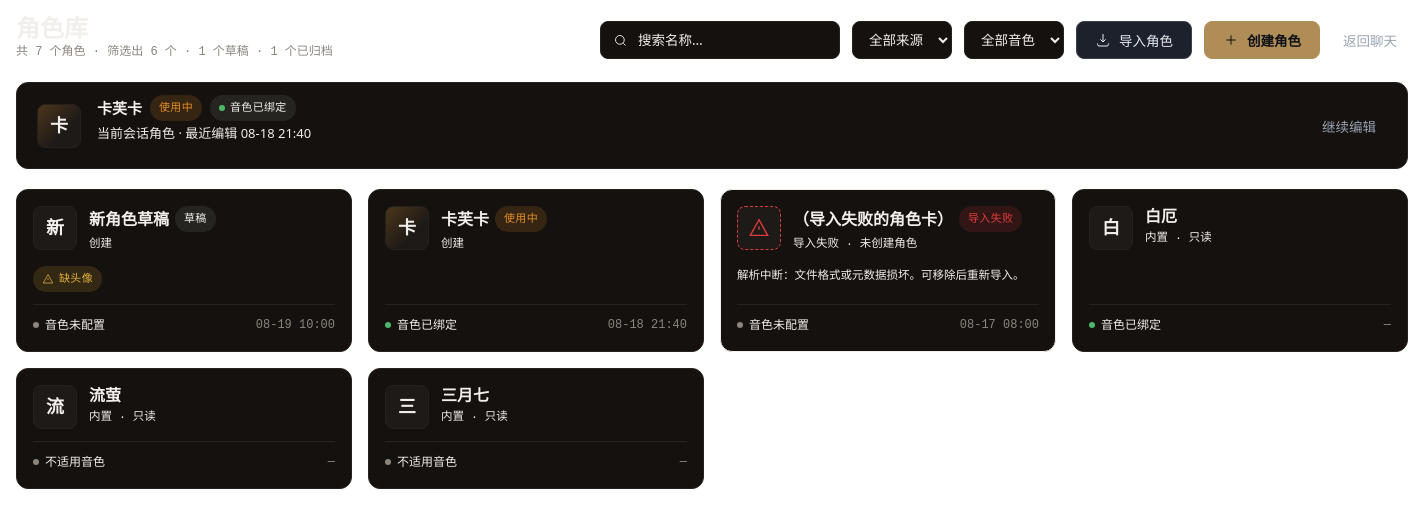
Test: CharacterLibraryPage › 筛选 › 按来源筛选「imported」只显示符合条件的卡
Select "导入" in the dropdown named "按来源筛选" at (902, 40), box [852,21,952,59]
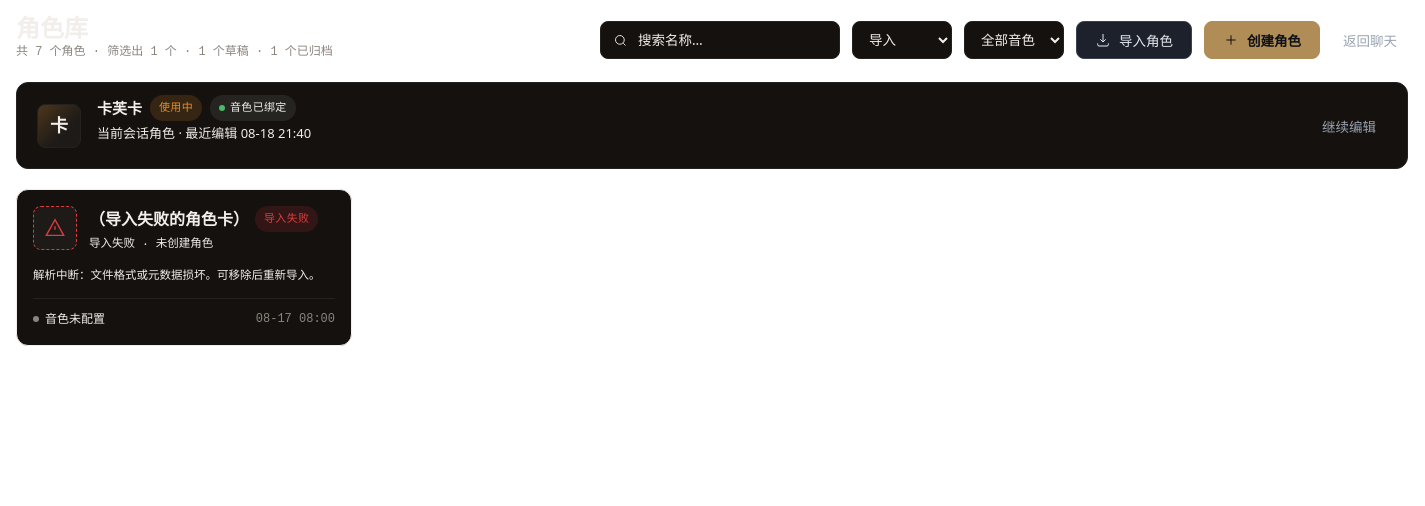
Expected: the element with test id "char-card-card-invalid-003" is shown, [16,189,352,346]
Now the element with test id "char-card-card-saved-002" is gone
